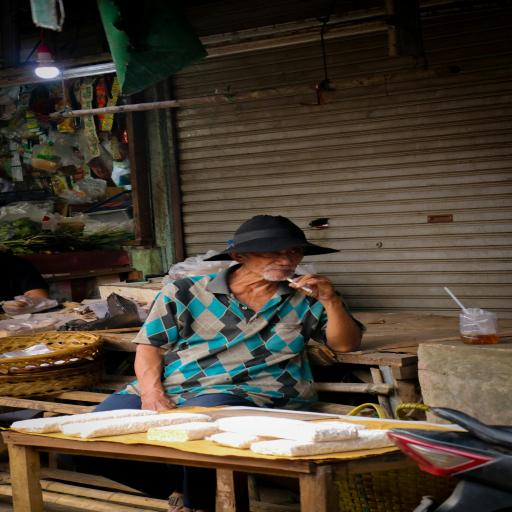merokok: (252, 240, 336, 303)
